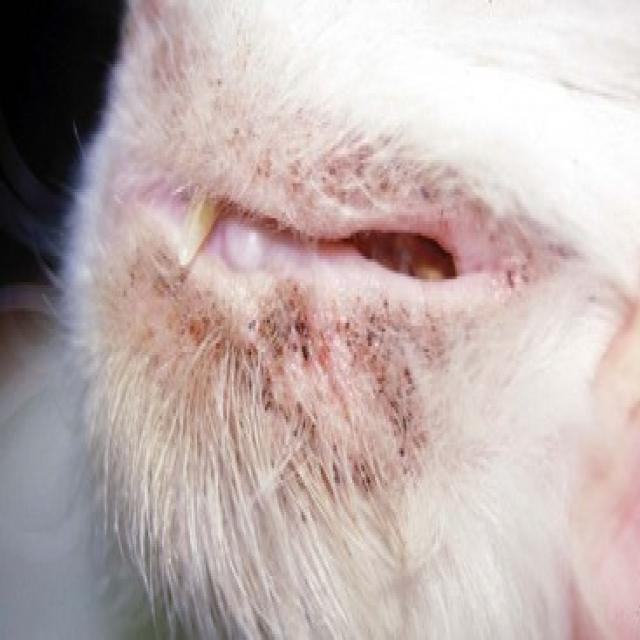fungal infection: (131, 247, 434, 495), (177, 97, 495, 240), (472, 209, 556, 298)
